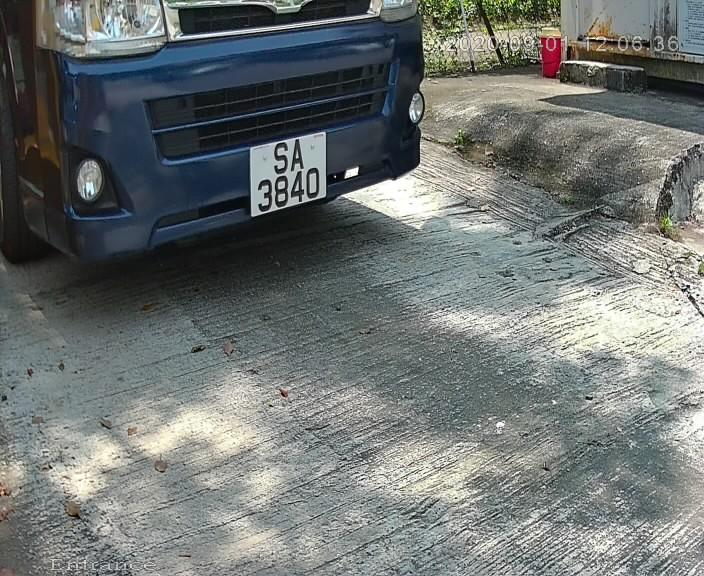License Plate: (239, 121, 340, 224)
